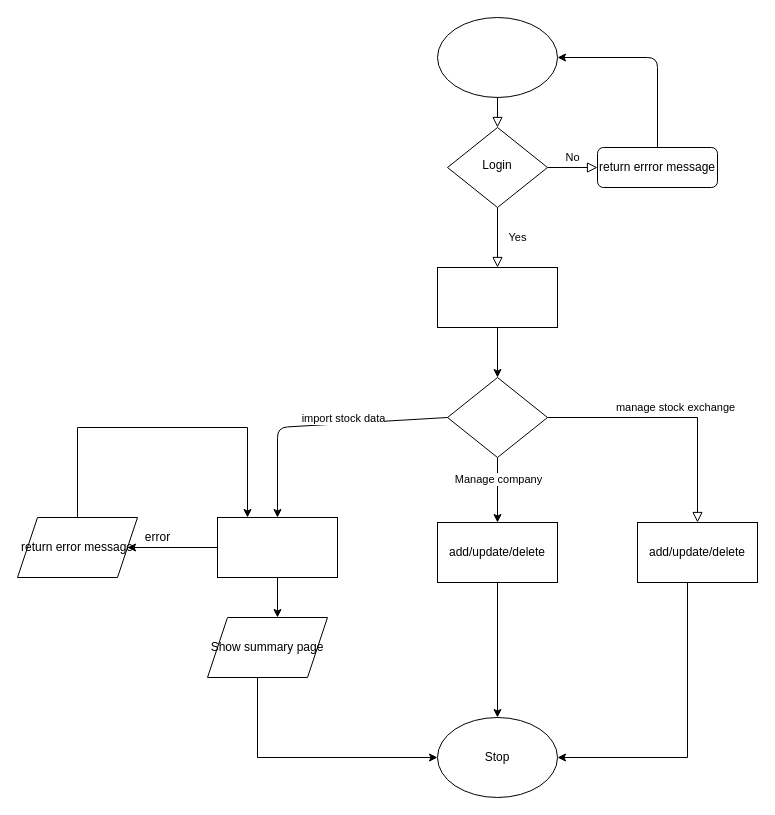
This 775x815 diagram has some shape labels left out. Each missing label, with the centre of its shape:
Landing page: pixel 497 297
Select action: pixel 497 417
Start: pixel 497 57
upload excel: pixel 277 547
